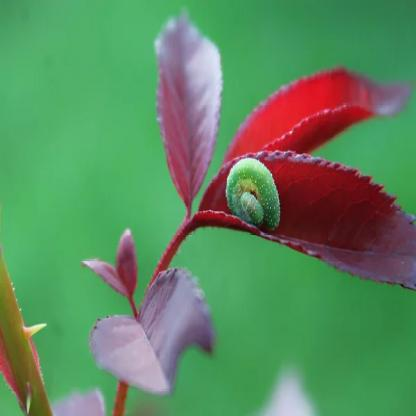sawfly: (223, 154, 282, 239)
